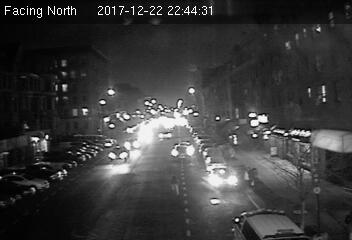car: (207, 165, 240, 190), (107, 145, 132, 163), (170, 142, 194, 160), (124, 136, 143, 150), (158, 131, 172, 139)
police: (229, 207, 312, 240)
